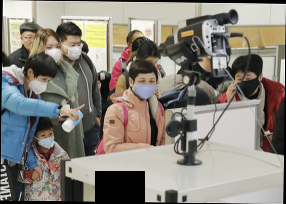with_mask: (132, 74, 158, 99), (234, 72, 259, 96), (62, 38, 83, 62), (30, 74, 52, 95), (44, 40, 63, 64), (37, 127, 55, 150)
